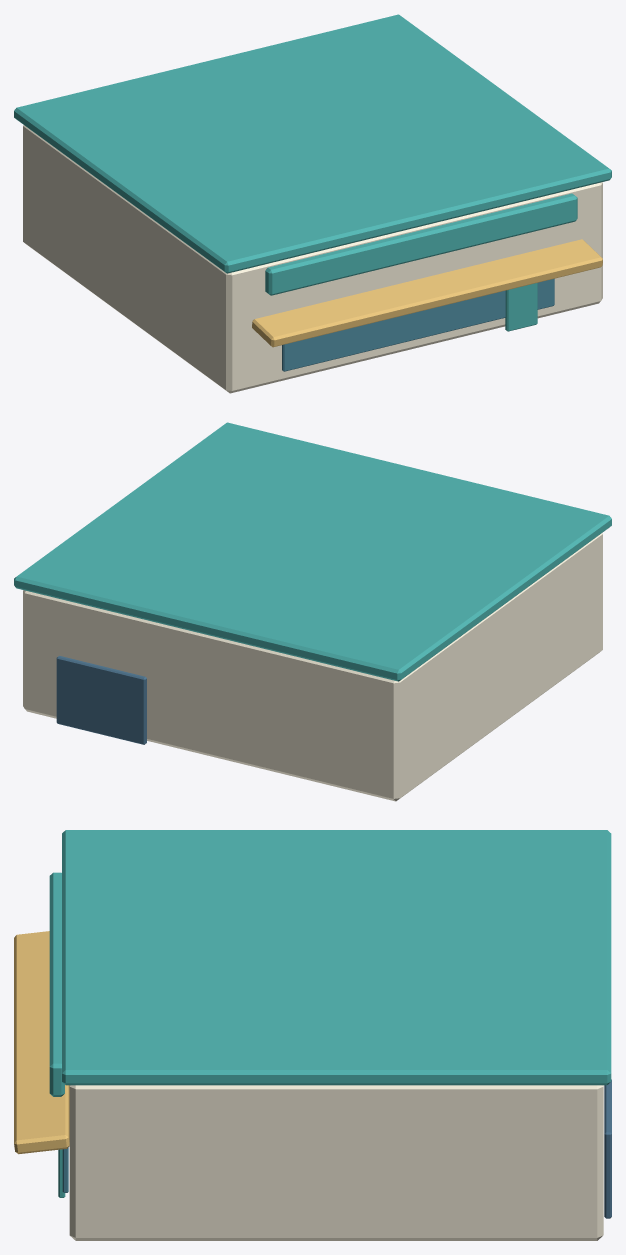
The model's file is COM_MID_2x2_005.glb.
3 views of the same model, one above another, from view 1: azimuth 30°, elevation 25°; view 2: azimuth 150°, elevation 25°; view 3: azimuth 270°, elevation 25° (orthographic). The views are drawn at different scales.
Visible parts, largest first — view 1: COM_MID_2x2_005_Visual; view 2: COM_MID_2x2_005_Visual; view 3: COM_MID_2x2_005_Visual.
Part boxes in pixels (x1,y1,x2,y2): COM_MID_2x2_005_Visual: (14, 14, 611, 393); COM_MID_2x2_005_Visual: (14, 422, 611, 801); COM_MID_2x2_005_Visual: (14, 830, 611, 1240).
Size of what is drawn, in the model's own units: 3.75 by 1.26 by 3.9.
